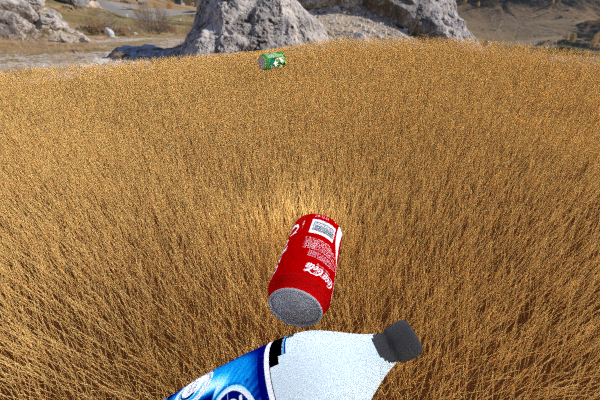Plastic Bottle: (22, 319, 422, 400), (267, 213, 342, 327), (257, 51, 286, 70)
